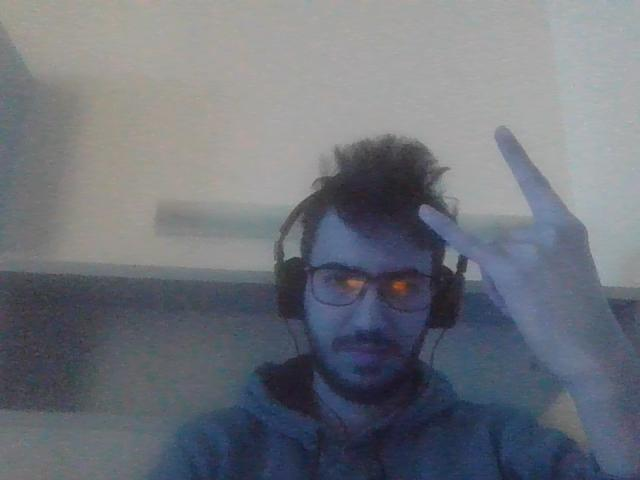iloveyou: (415, 121, 640, 386)
